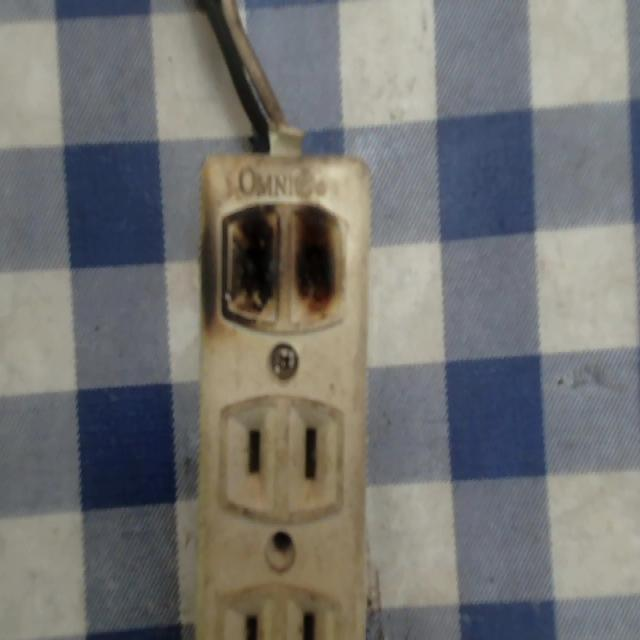-: (213, 193, 361, 335)
